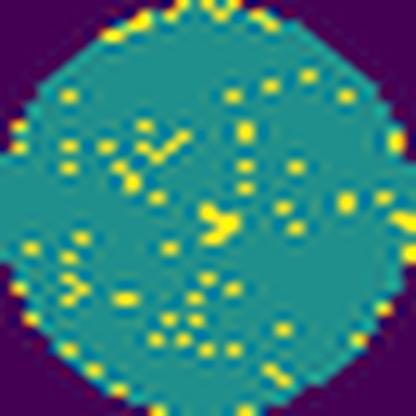Center: (190, 202, 249, 249)
